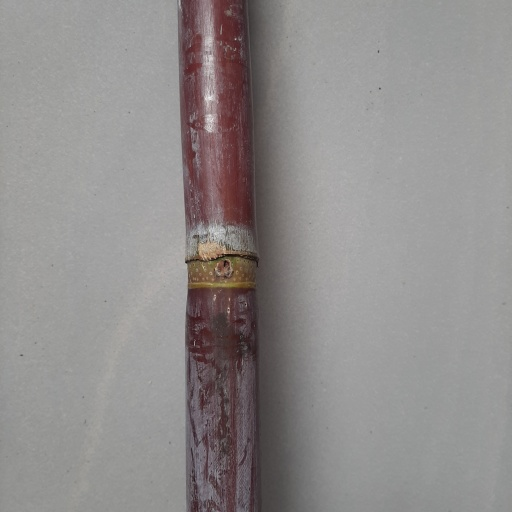Damage_Bud: (215, 258, 234, 280)
